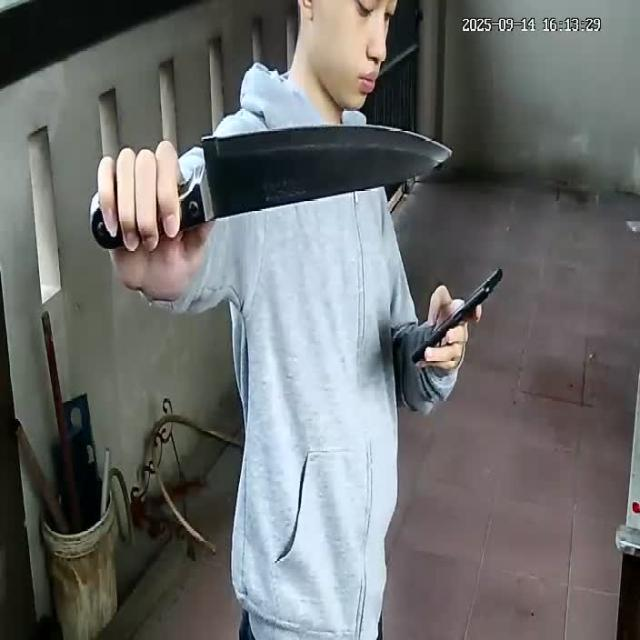senjata_tajam: (177, 119, 456, 238)
